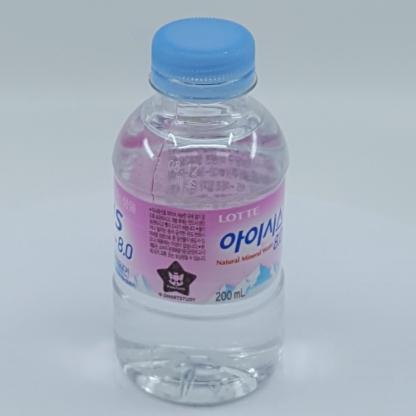------200ML: (112, 18, 289, 407)
